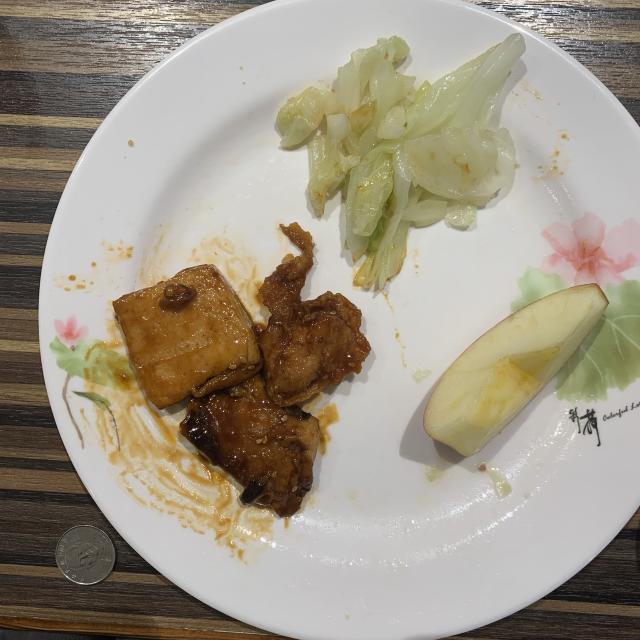apple -sliced-: (424, 284, 609, 456)
cabbage: (276, 34, 525, 289)
coin: (55, 525, 116, 585)
creamy tofu: (114, 222, 370, 516)
